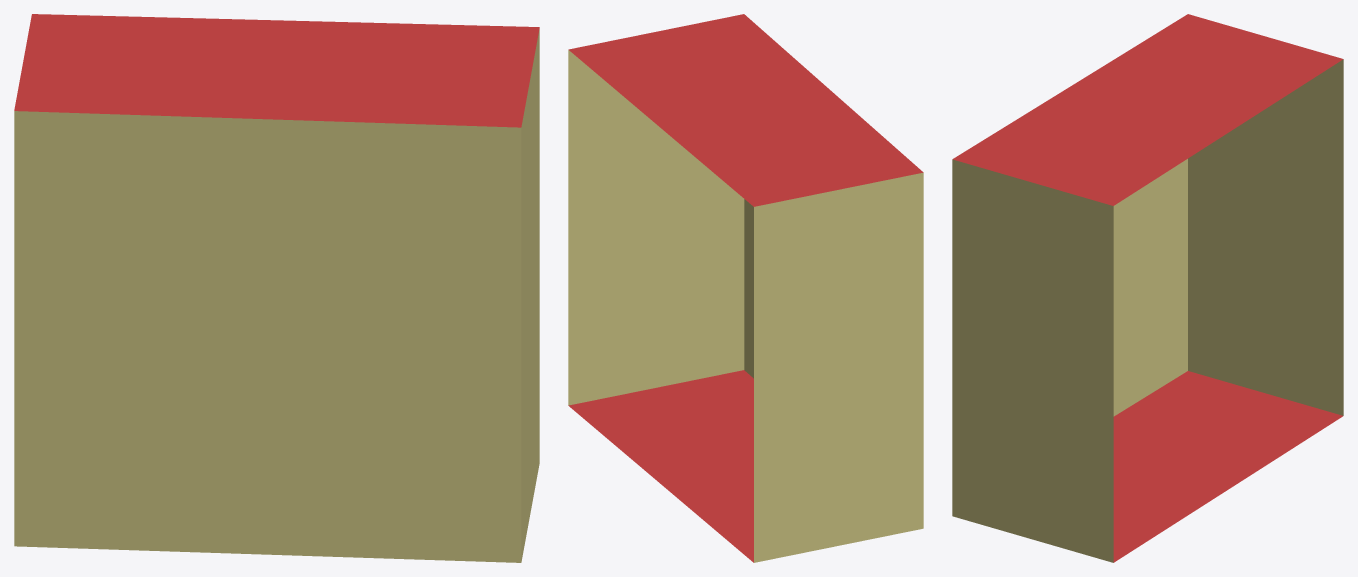
3 views of the same model, side by side, from view 1: azimuth 30°, elevation 25°; view 2: azimuth 150°, elevation 25°; view 3: azimuth 270°, elevation 25° (orthographic). The views are drawn at different scales.
Bounding box in the file's own units: 6.65 × 5.73 × 5.76.
